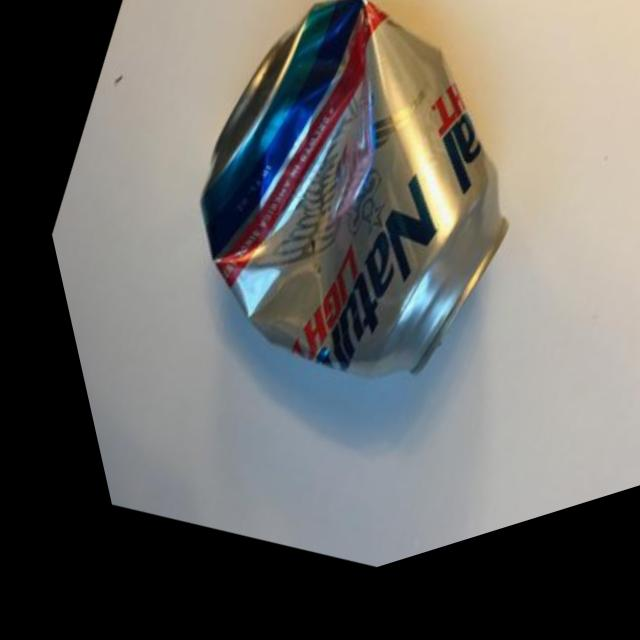metal: (32, 0, 640, 558)
